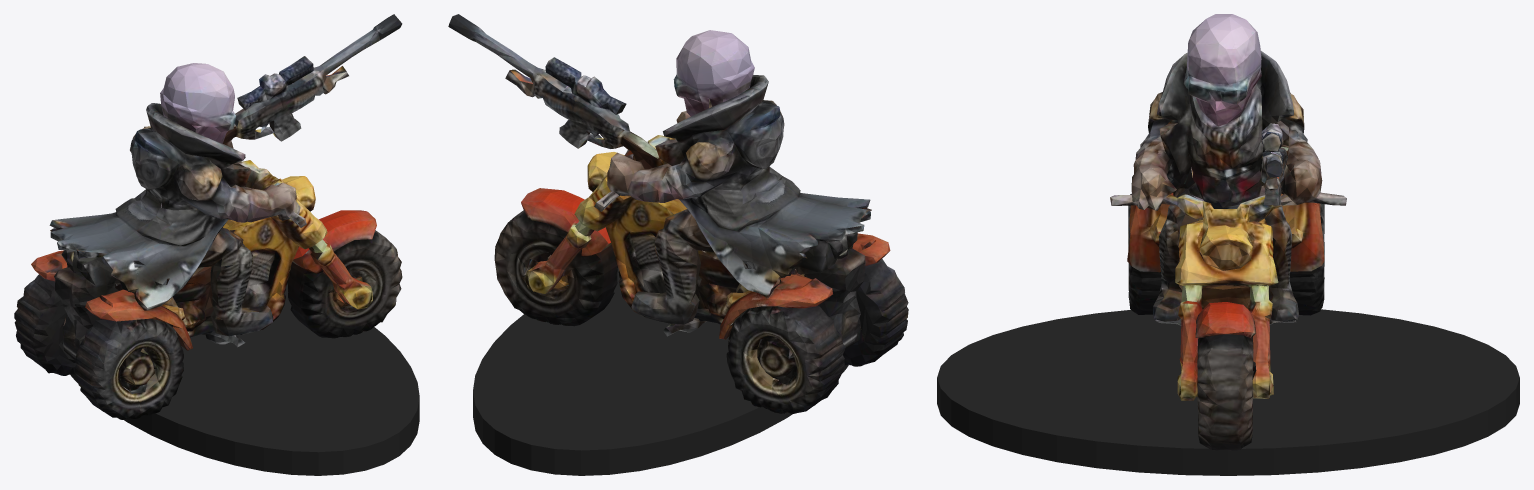
The model's file is shanus-daskovian.glb.
3 views of the same model, side by side, from view 1: azimuth 30°, elevation 25°; view 2: azimuth 150°, elevation 25°; view 3: azimuth 270°, elevation 25° (orthographic). The views are drawn at different scales.
Parts seen in each view (by area): view 1: figure, base; view 2: figure, base; view 3: base, figure.
Boxes of the visible parts, bbox=[...] form: figure: bbox=[14, 14, 402, 419]; base: bbox=[70, 283, 419, 475]; figure: bbox=[448, 14, 908, 413]; base: bbox=[473, 267, 848, 475]; base: bbox=[937, 309, 1519, 475]; figure: bbox=[1110, 14, 1346, 450].
Bounding box in the file's own units: 1.94 × 1.62 × 2.36.
Materials: 2 (1 with a texture image).
